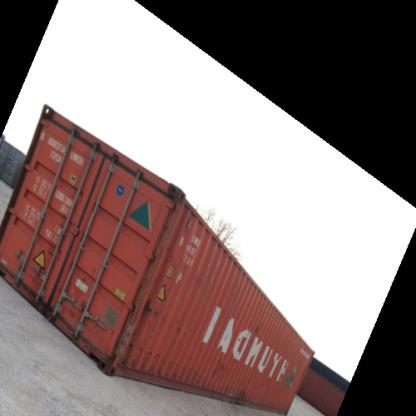Damage: (145, 302, 185, 336), (126, 339, 168, 360), (208, 350, 232, 373), (50, 217, 73, 236), (223, 380, 250, 396), (79, 261, 99, 282), (246, 317, 264, 337), (72, 296, 90, 312), (105, 322, 118, 336)
